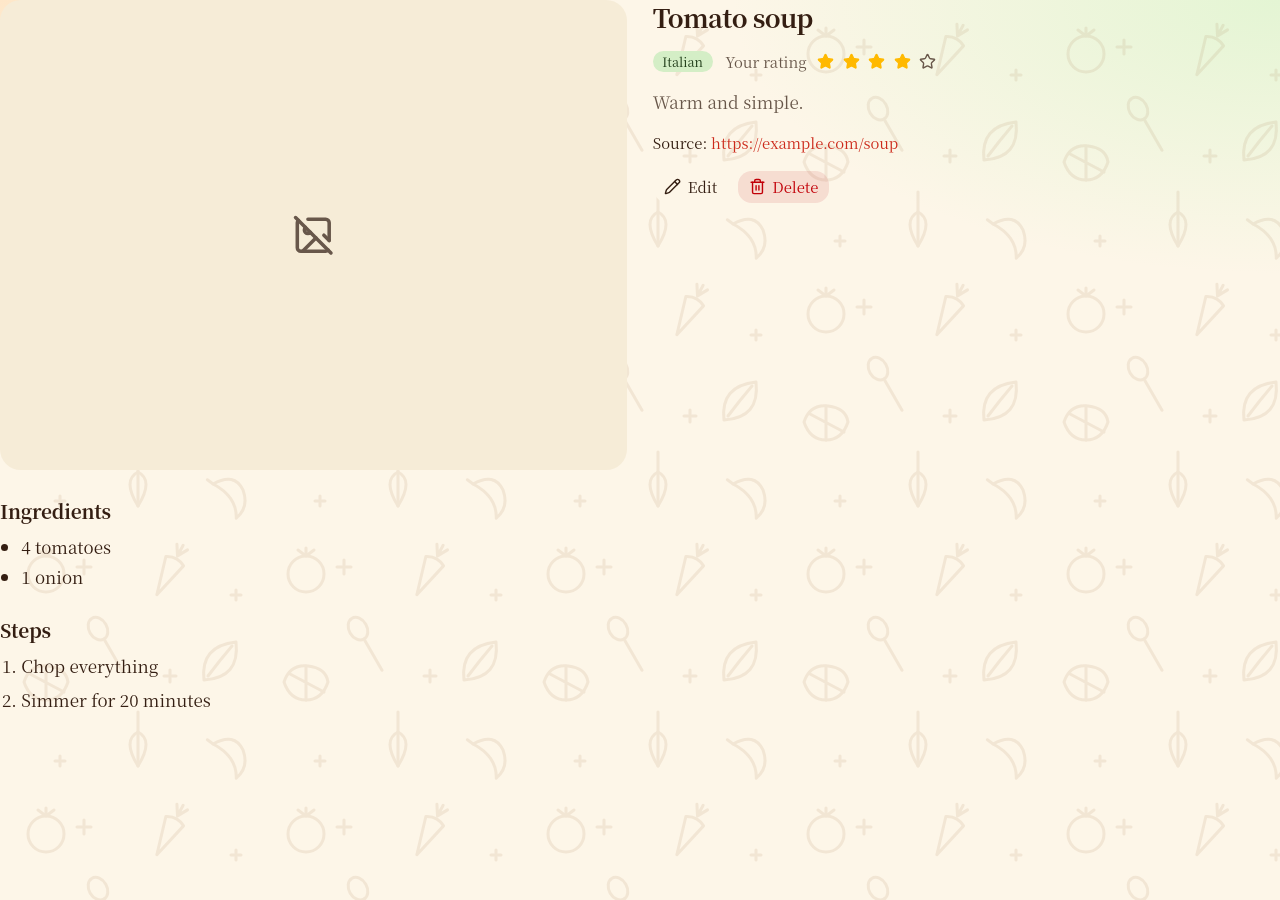
RecipeDetailPage › keeps the recipe and shows an error when deletion fails
The image size is (1280, 900).
Click the button "Delete" at (784, 187), box [737,170,830,204]
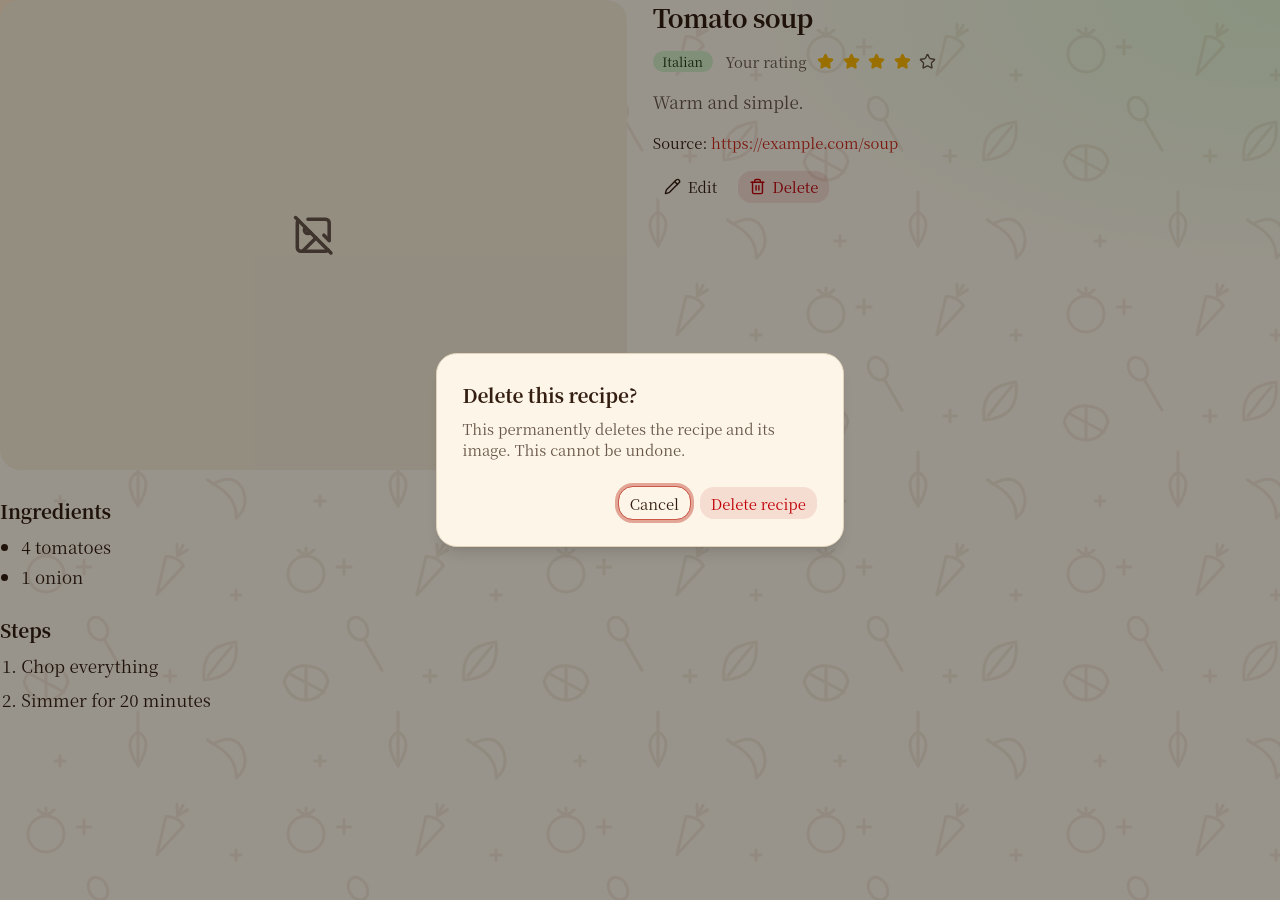
Click the button "Delete recipe" at (758, 503), box [699,486,818,520]
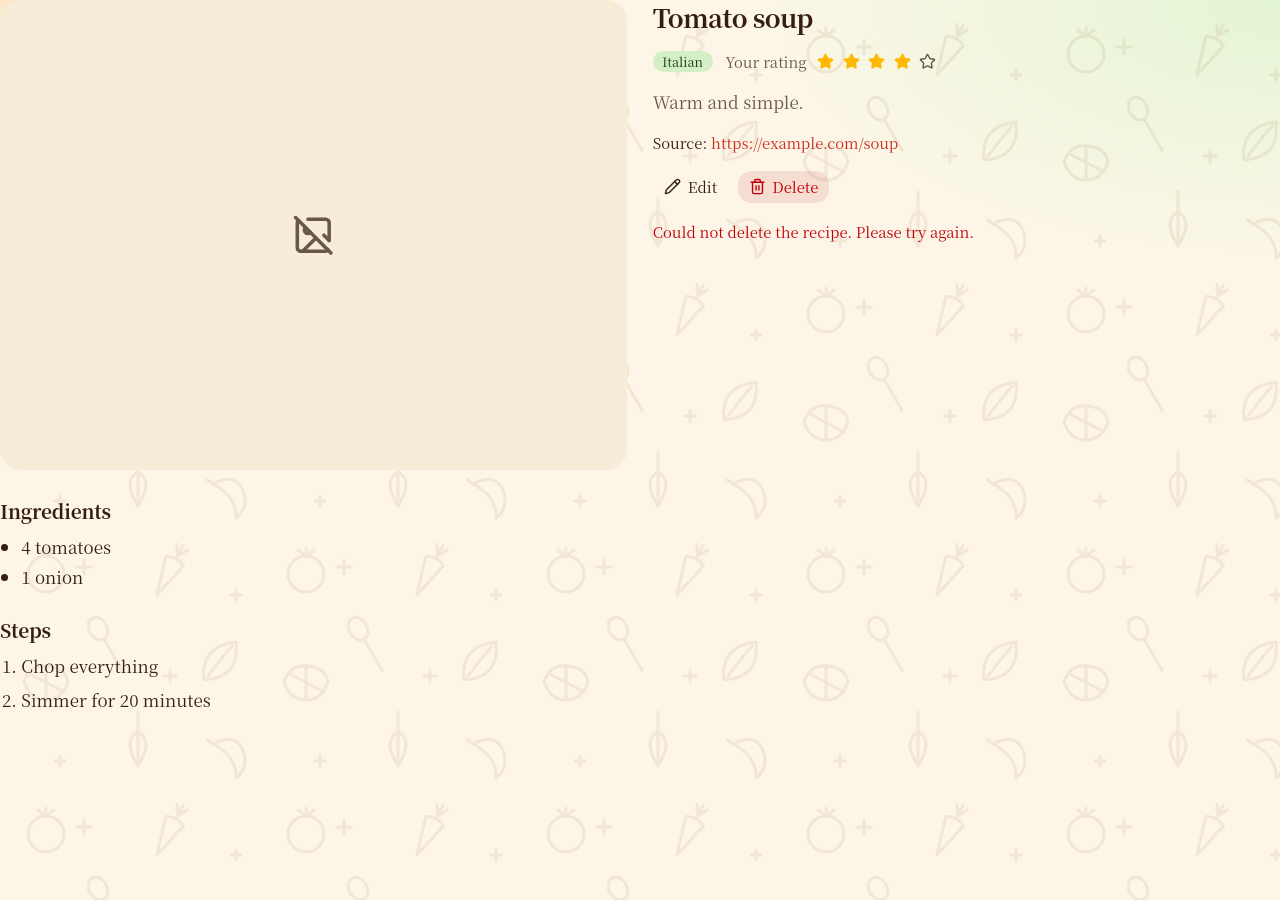
Check: the text "Could not delete the recipe. Please try again." is shown, box [653,221,974,242]
